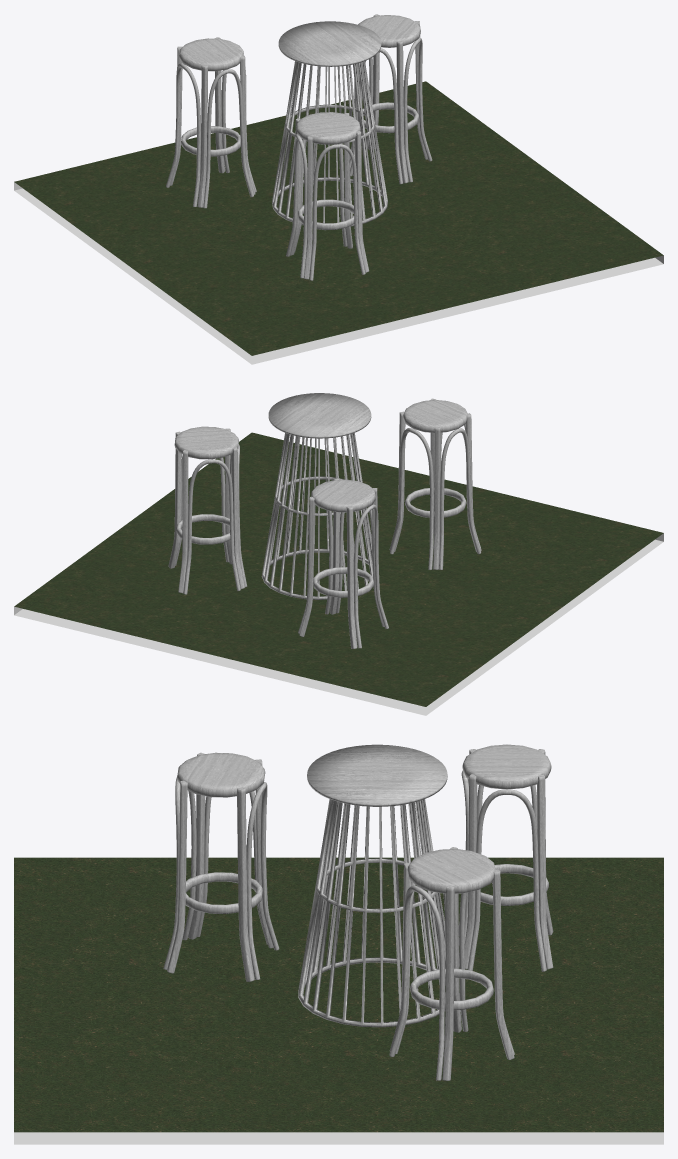
File: Set3.glb
The picture shows the model from 3 angles, top to bottom: view 1: azimuth 30°, elevation 25°; view 2: azimuth 150°, elevation 25°; view 3: azimuth 270°, elevation 25°; orthographic projection. The views are drawn at different scales.
Parts seen in each view (by area): view 1: Plane.002, BarStool3.001, BarStool1.006, BarStool1.004, BarStool1.005; view 2: Plane.002, BarStool3.001, BarStool1.004, BarStool1.005, BarStool1.006; view 3: Plane.002, BarStool3.001, BarStool1.006, BarStool1.005, BarStool1.004.
Part boxes in pixels (x1,y1,x2,y2): Plane.002: (14, 81, 663, 364); BarStool3.001: (272, 21, 387, 226); BarStool1.006: (286, 112, 369, 280); BarStool1.004: (166, 37, 256, 208); BarStool1.005: (349, 14, 432, 184); Plane.002: (14, 432, 663, 715); BarStool3.001: (261, 393, 372, 599); BarStool1.004: (298, 478, 388, 648); BarStool1.005: (168, 426, 247, 594); BarStool1.006: (389, 398, 481, 569); Plane.002: (14, 857, 663, 1144); BarStool3.001: (298, 744, 447, 1027); BarStool1.006: (163, 752, 279, 981); BarStool1.005: (389, 847, 514, 1080); BarStool1.004: (458, 744, 553, 971).
Bounding box in the file's own units: 9.81 × 3.93 × 9.81.
2 materials, 2 textured.
